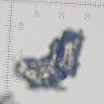microplastic: (13, 38, 70, 93), (54, 29, 86, 78)
